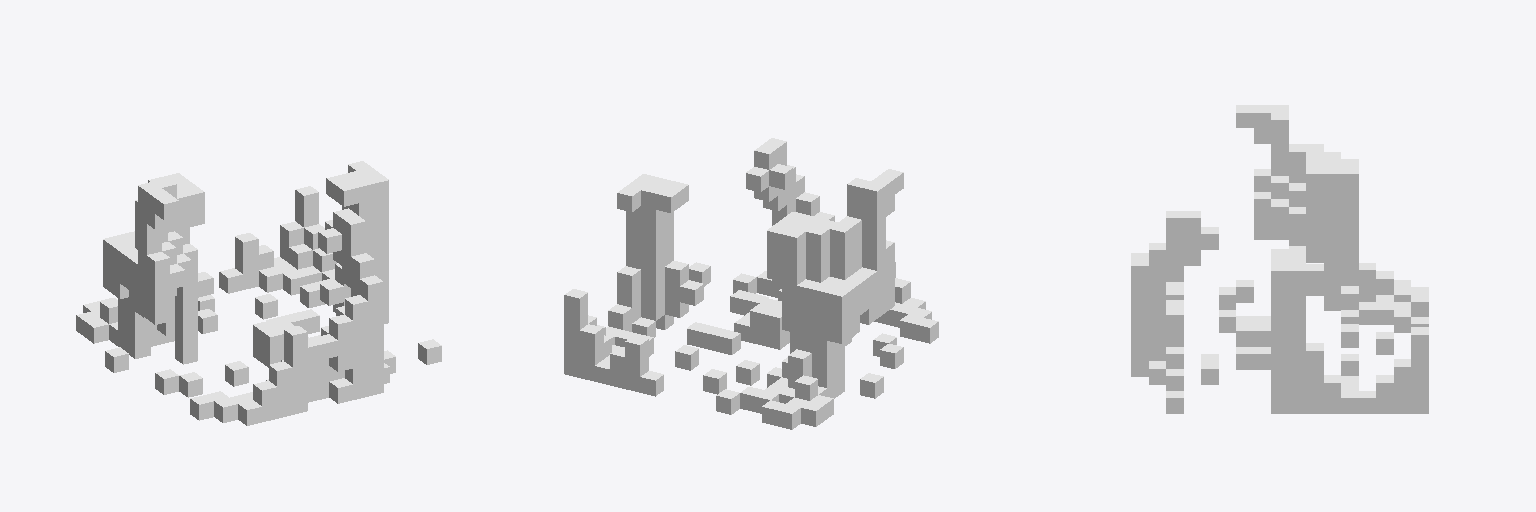
Rendered from ruins0.obj.
The picture shows the model from 3 angles: view 1: azimuth 30°, elevation 25°; view 2: azimuth 150°, elevation 25°; view 3: azimuth 270°, elevation 25°; orthographic projection.
Bounding box in the file's own units: 17 × 12 × 17.